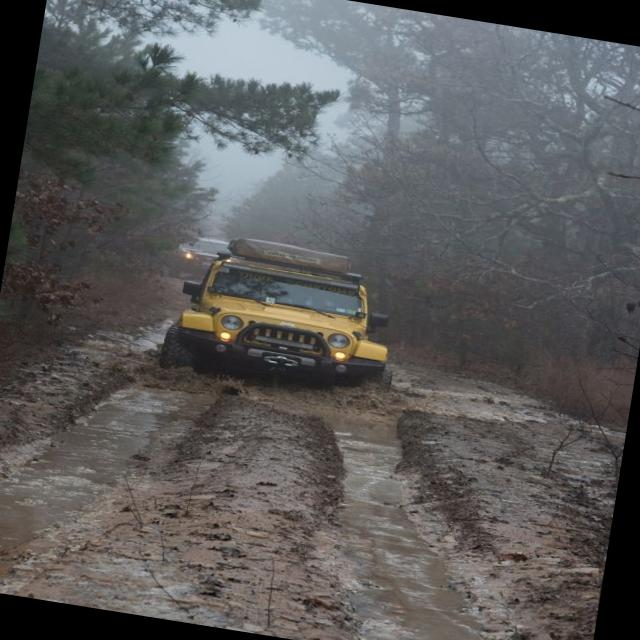red-sand: (0, 323, 625, 640)
